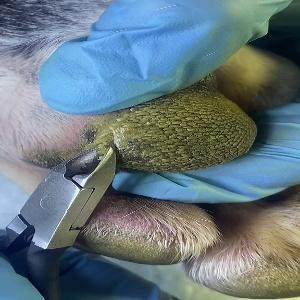keratosis: (114, 81, 264, 175)
